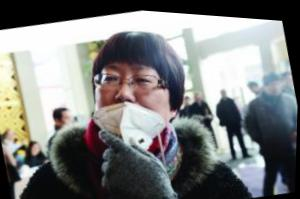WRONG: (86, 57, 173, 147)
